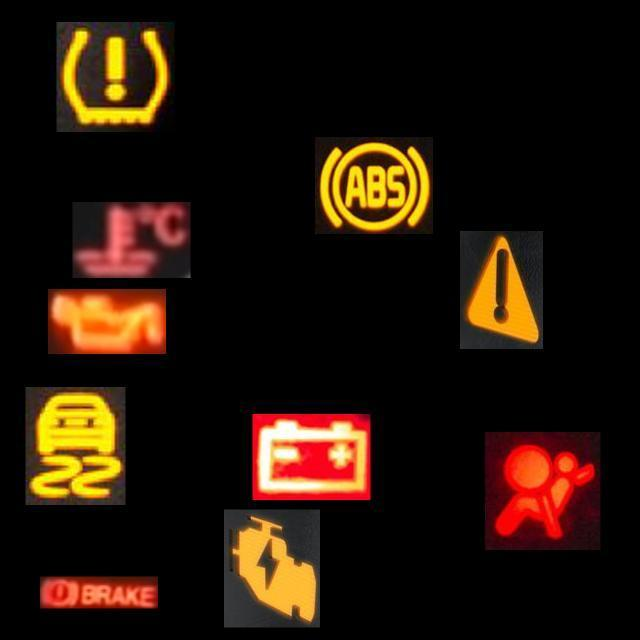Central Warning lamp: (460, 231, 543, 349)
Engine cooling system: (72, 202, 190, 278)
